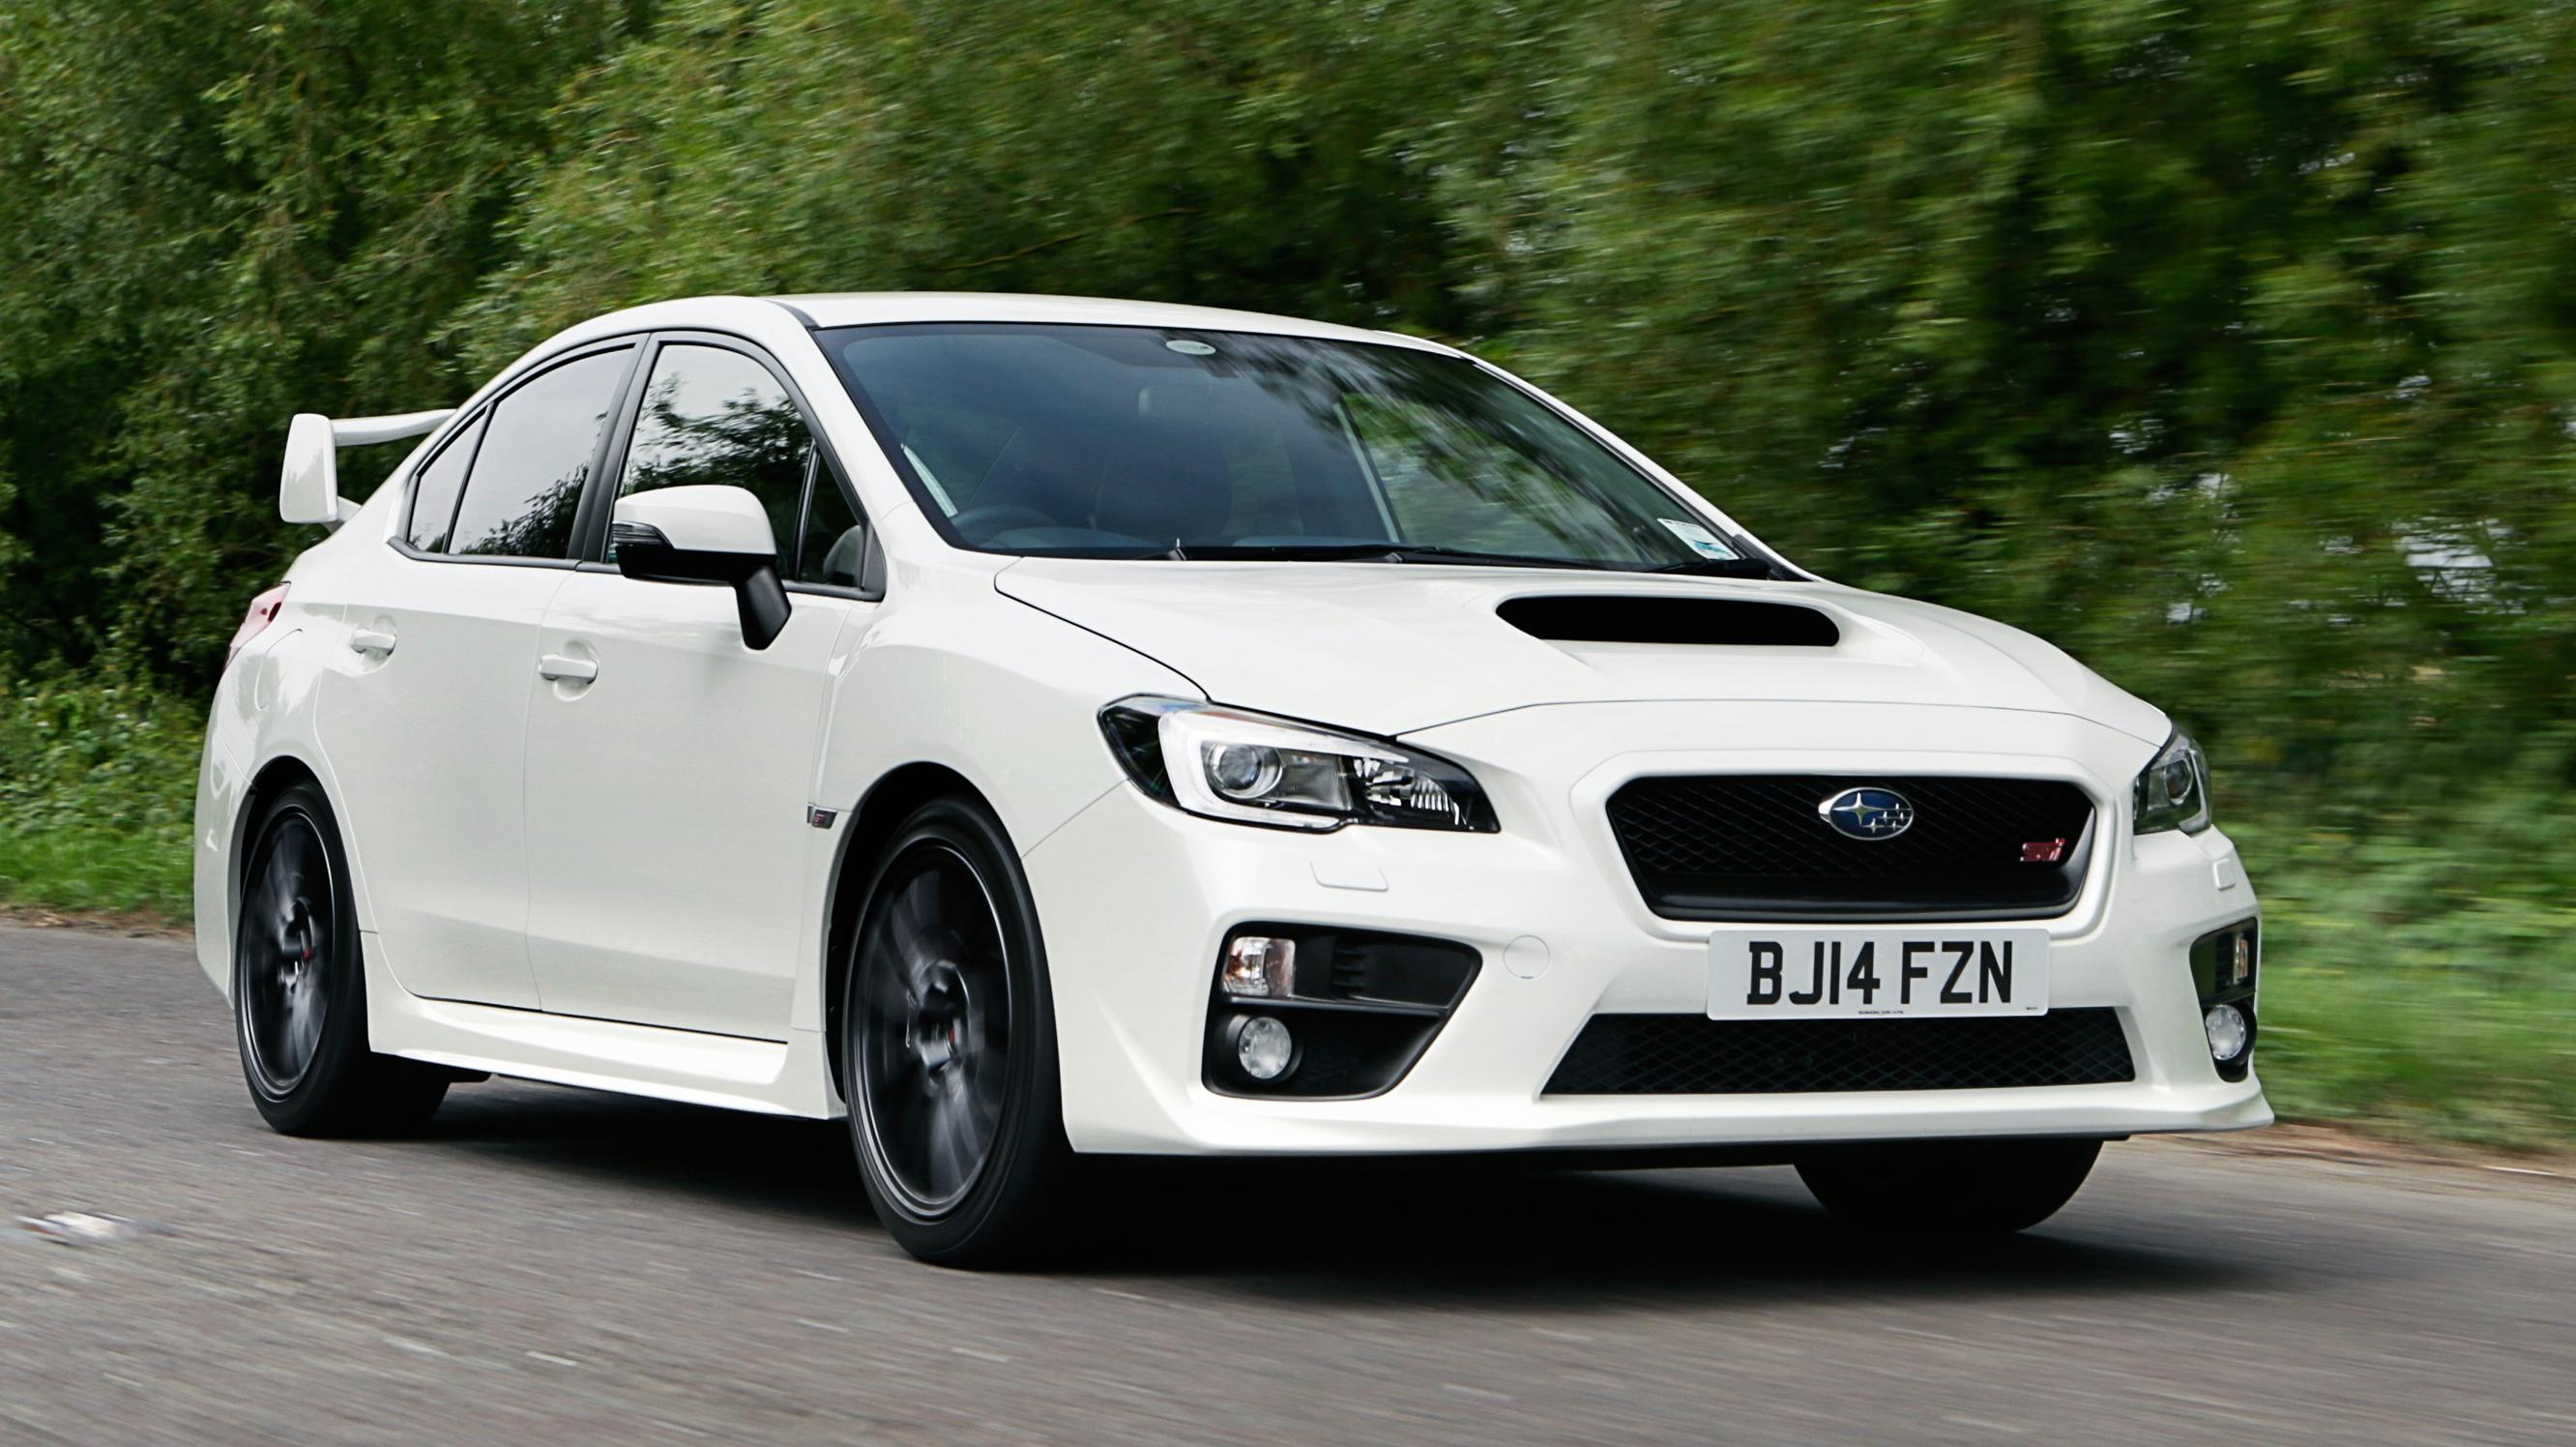subaru: (1806, 775, 1930, 858)
